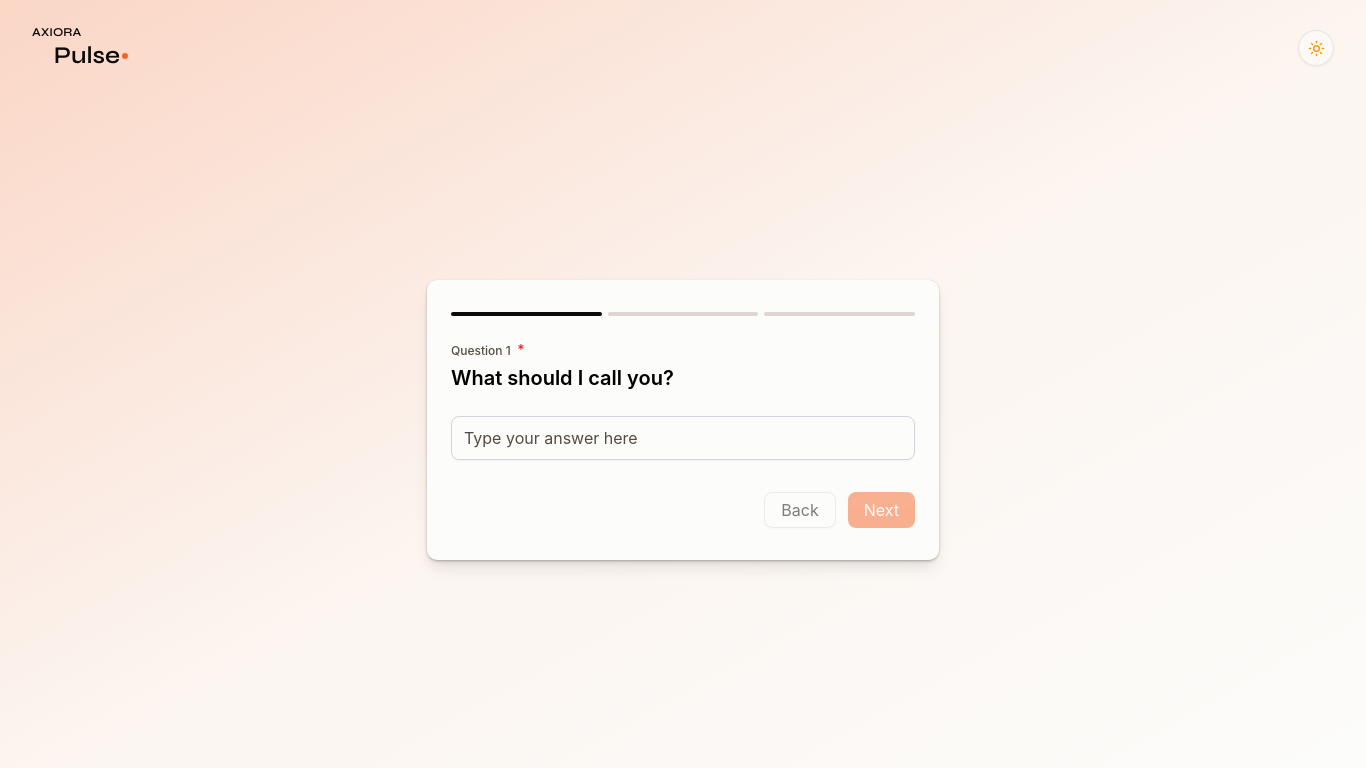
Test: InteractiveQuestionsFlow › persists the draft on Next, and Back restores the previous step and answer
Step 1. Type "Farhan" into the field with placeholder "Type your answer here" → (683, 438), box [451,416,915,460]
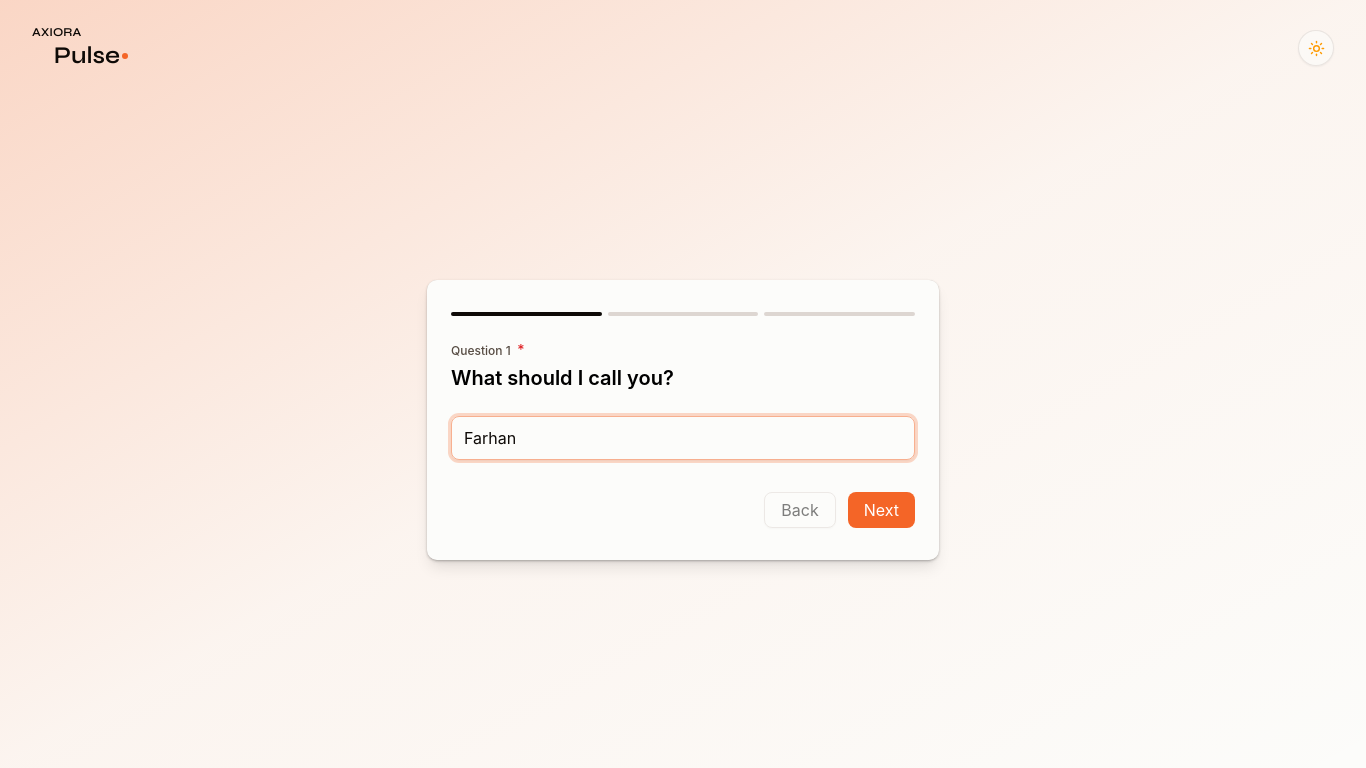
Step 2. Click the button "Next" → (881, 510), box [848,492,915,528]
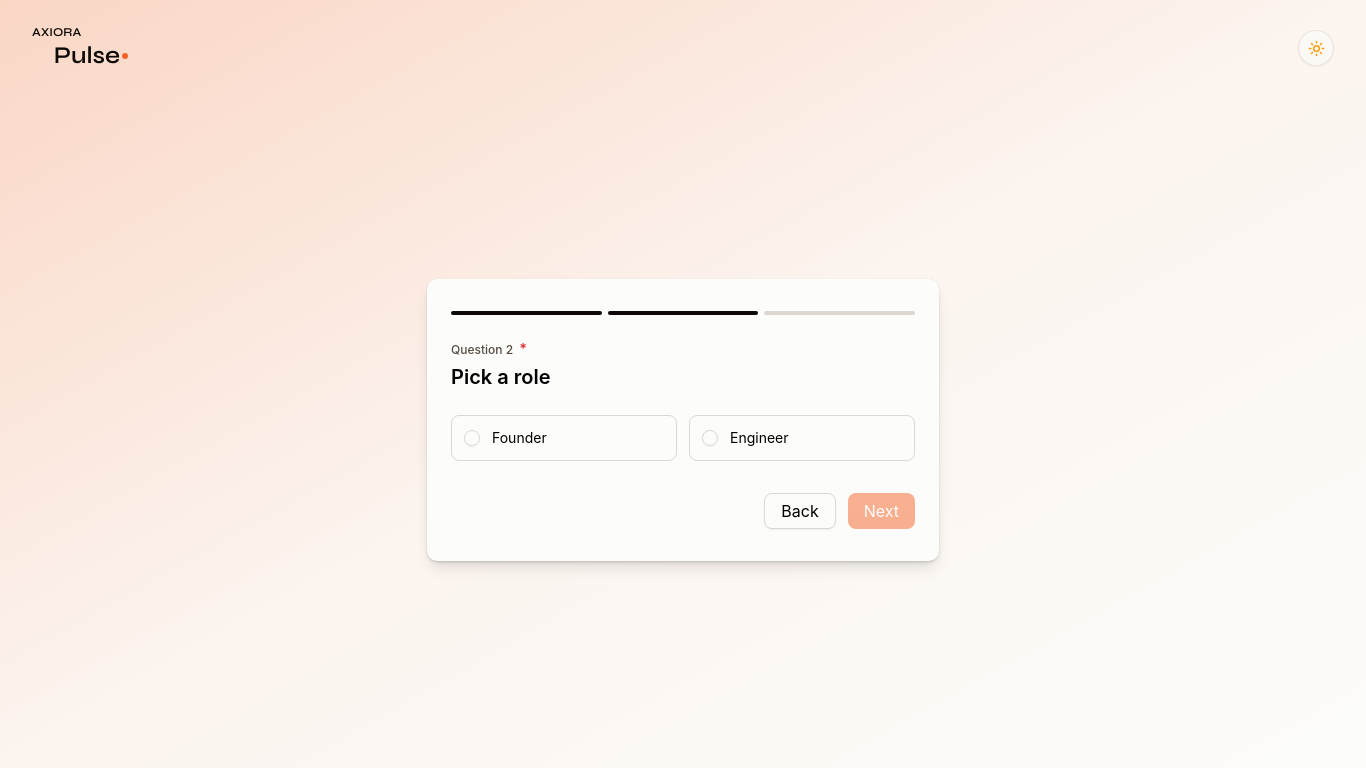
Check: the heading "Pick a role" is shown, box [451,363,550,391]
Step 3. Click the button "Back" → (800, 511), box [764,493,836,529]
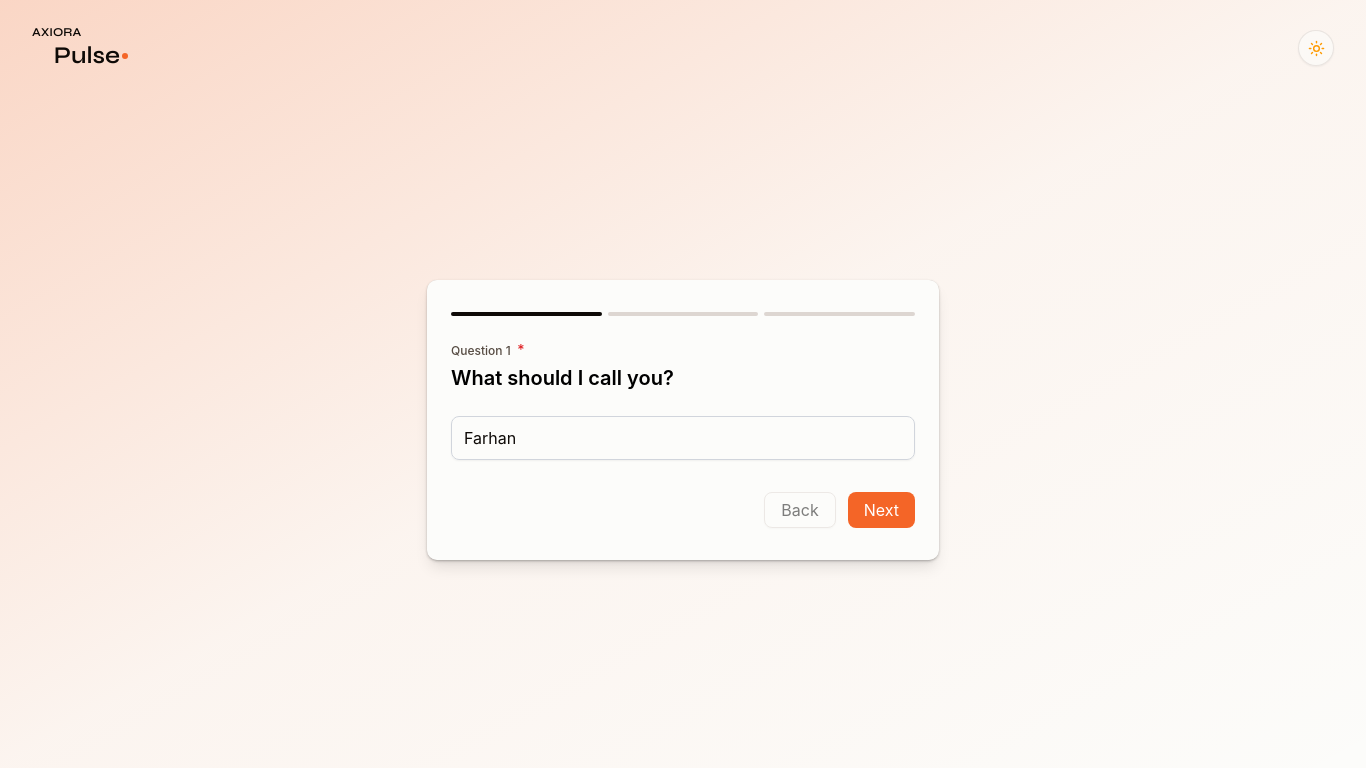
Check: the heading "What should I call you?" is shown, box [451,364,674,392]
Check: the field with placeholder "Type your answer here" holds "Farhan", box [451,416,915,460]
